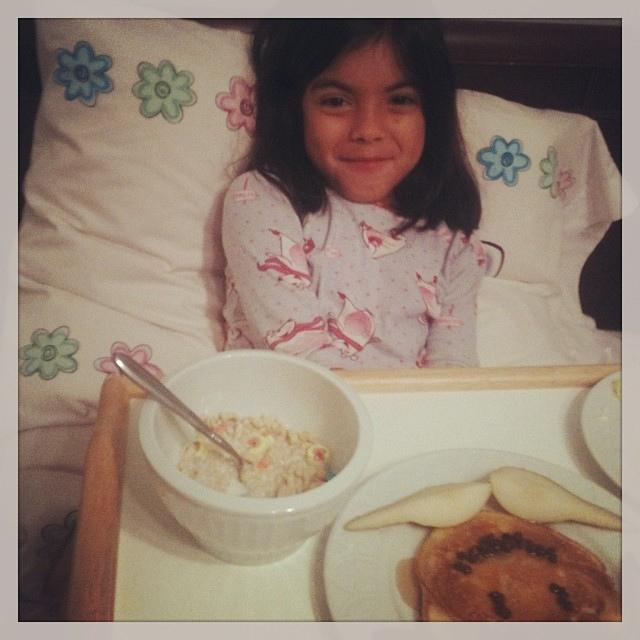pear: (491, 467, 621, 531), (343, 482, 492, 532)
